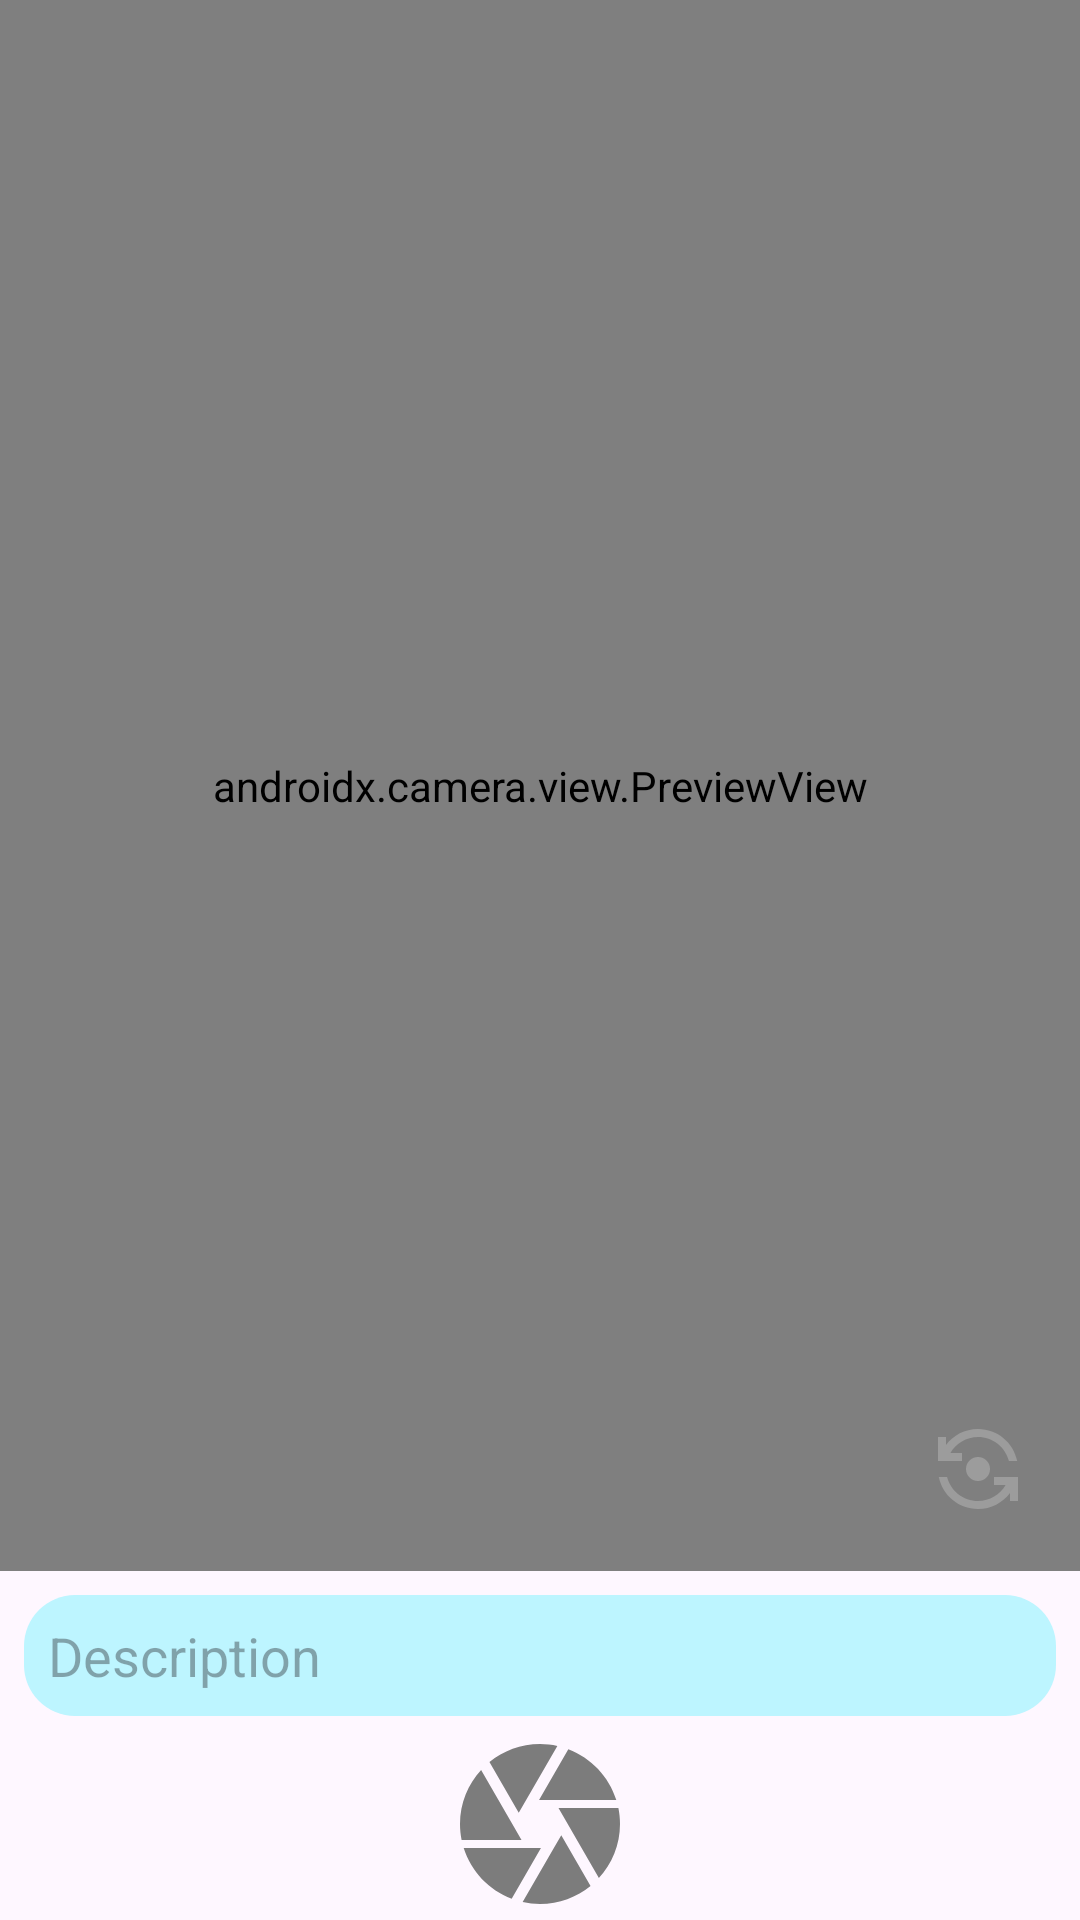

Icon bounding boxes for this 1080w x 1920h phone screenshot, format region(x1, y1, x2, y2):
camera: region(460, 1744, 620, 1904)
change camera: region(938, 1429, 1018, 1509)
